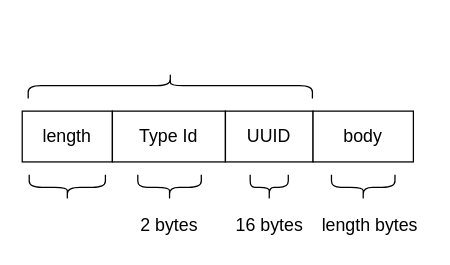
The diagram is 450 pixels wide and 265 high, and some of its shapes have lost their labels. Here are the shapes that lost their labels. From the top down, the box of each, then its label:
(27, 72, 312, 98): Header 22 bytes
(28, 173, 105, 200): 4 bytes
